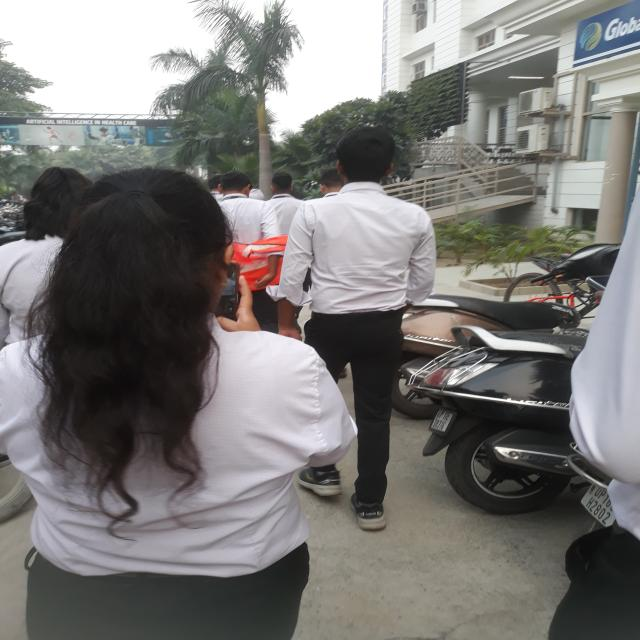unsafe: (0, 161, 354, 640), (278, 126, 442, 538), (207, 171, 284, 335)
